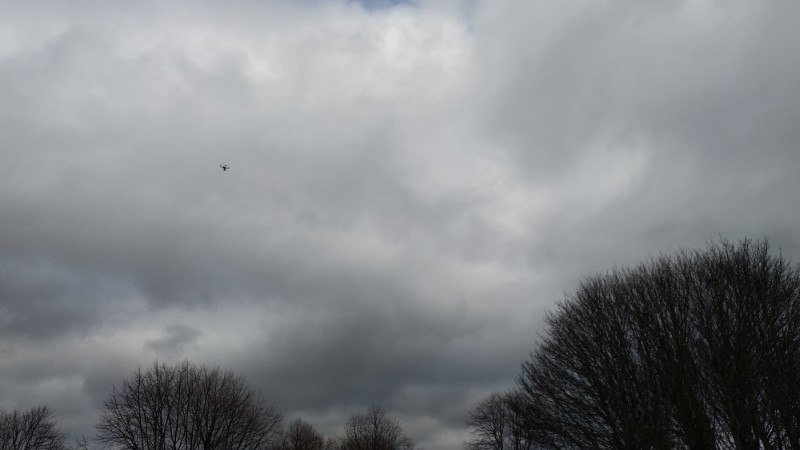drone: (219, 163, 231, 173)
